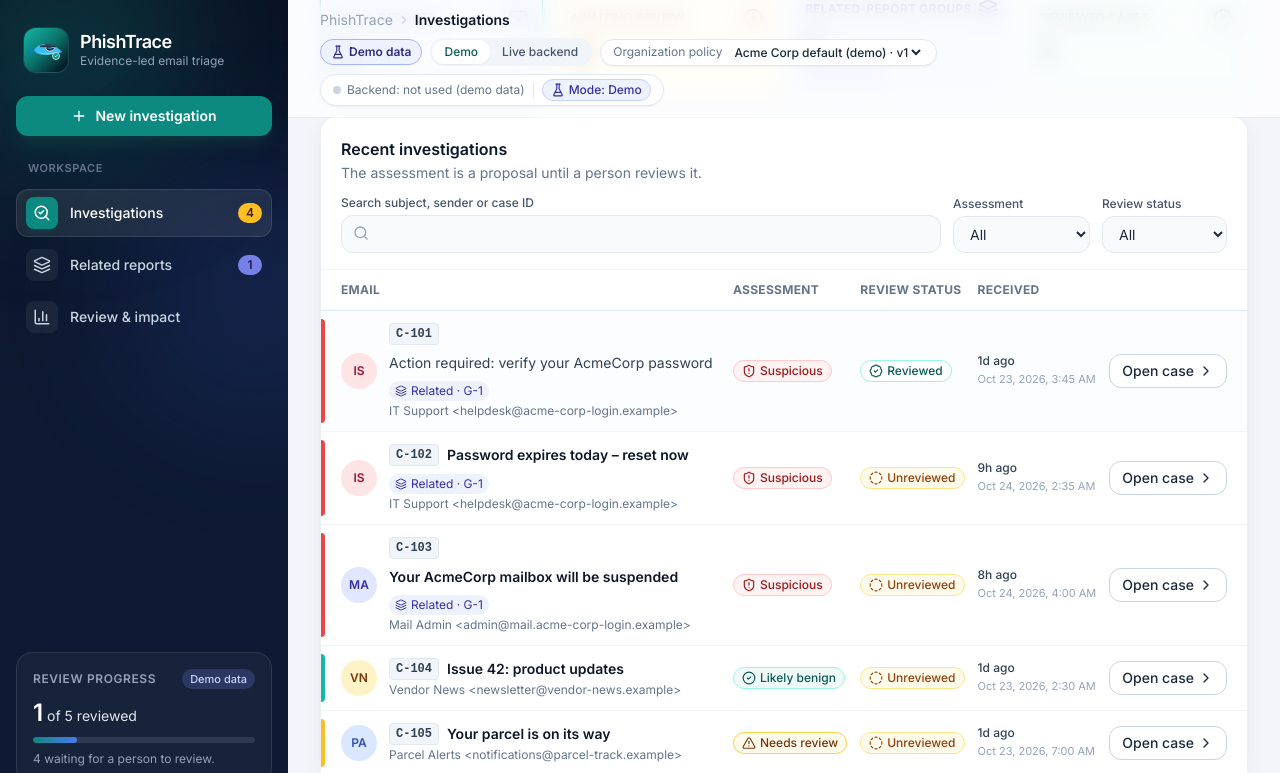
Scenario: case details › surfaces a similar reviewed case and compares it in three plain cards
The width and height of the screenshot is (1280, 773).
(page scrolled)
Step 1. Click the button "Open case" in the row of "9h ago" → (1168, 478), box [1109,461,1227,495]
(page scrolled)
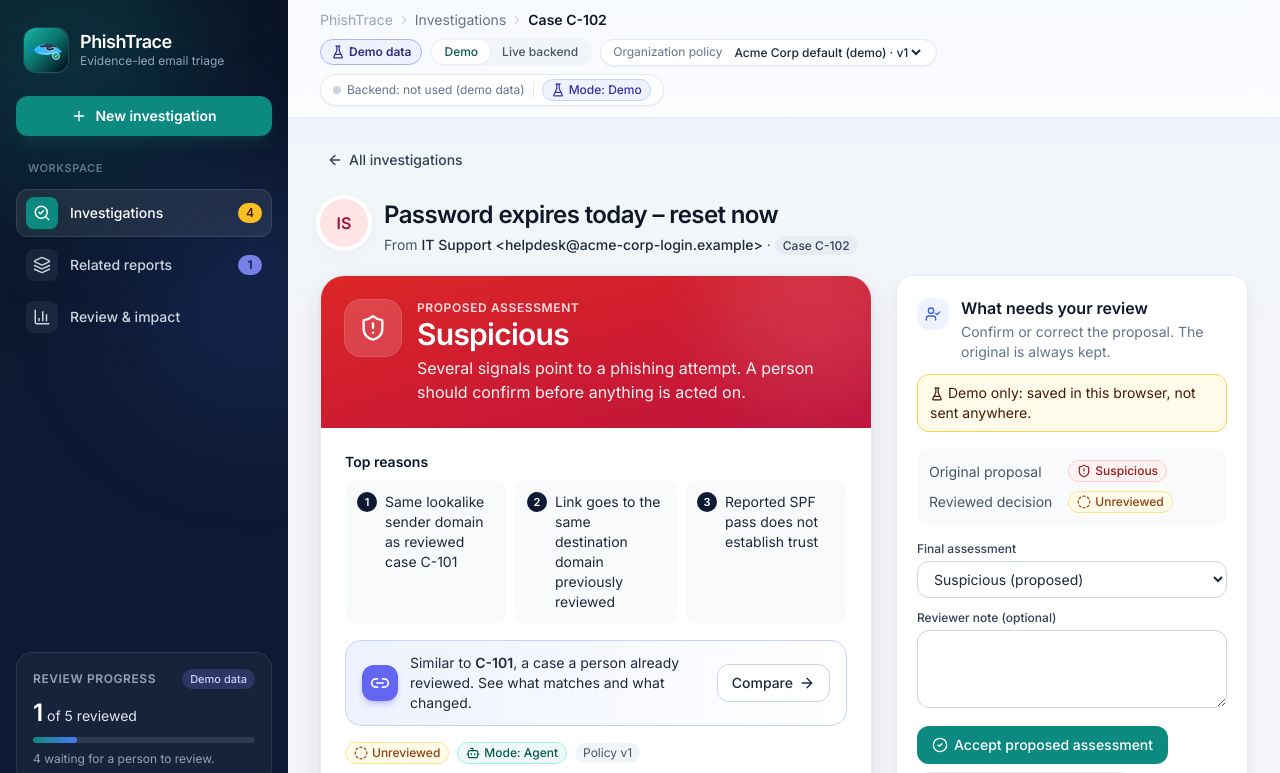
expect the text "Similar to" shows "C-101": met, box [475,654,513,671]
Step 2. Click the button "Compare" → (773, 683), box [717,664,830,702]
(page scrolled)
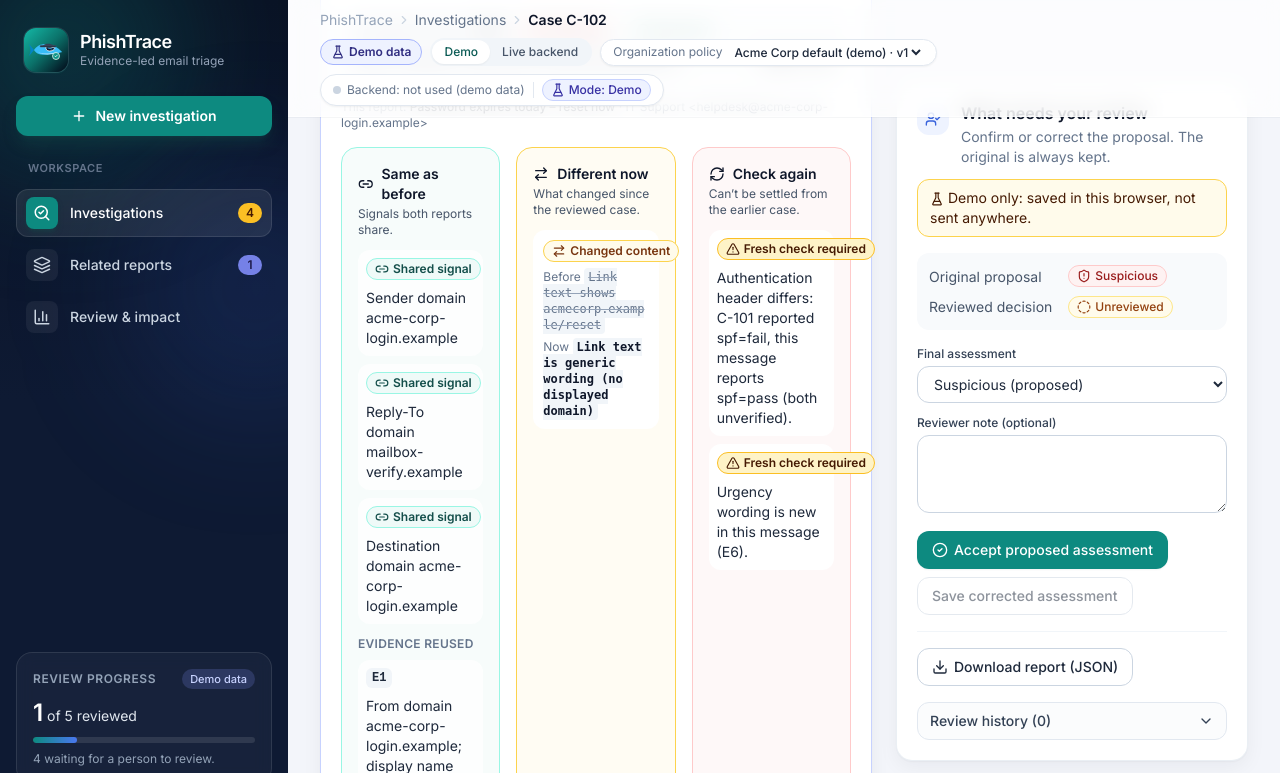
expect the 1st text "Shared signal" is shown: met, box [366,258,481,280]
expect the 1st text "Fresh check required" is shown: met, box [717,238,875,260]
expect the element named "Needs fresh investigation" is shown: met, box [709,230,834,570]
